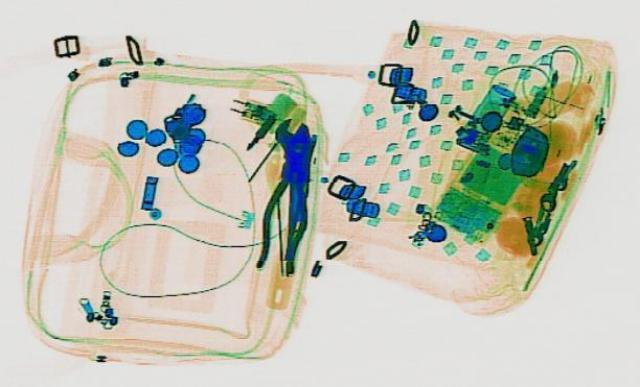Pliers: (247, 121, 325, 274)
Wrench: (270, 116, 316, 217)
